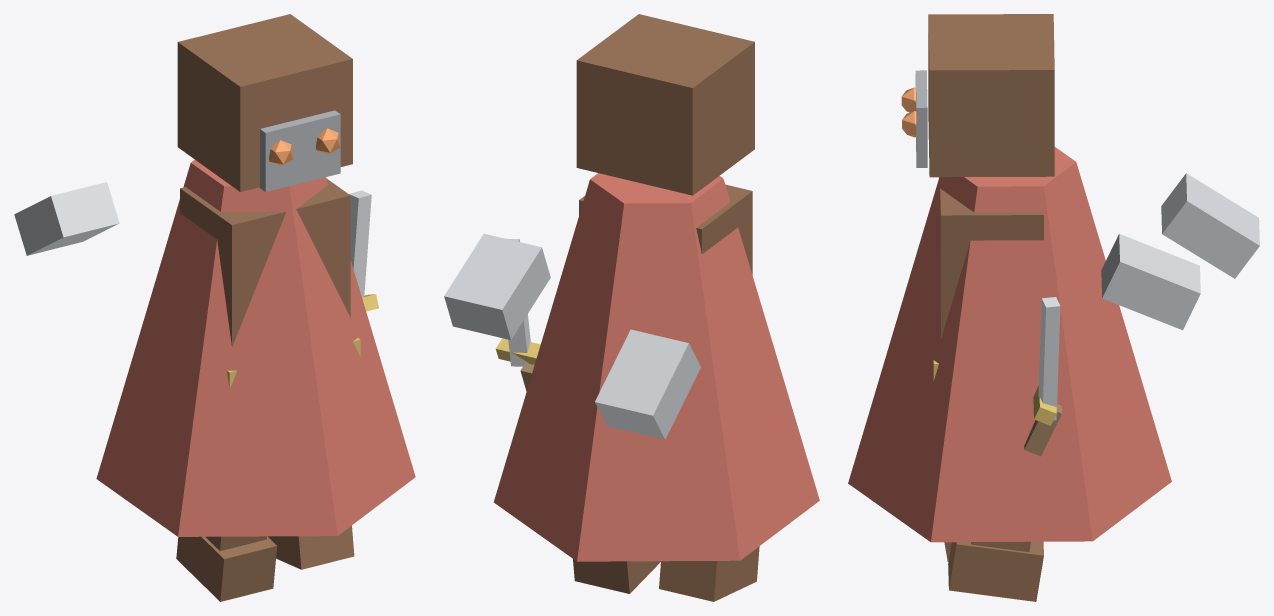
The model's file is npcpose_raider_attack_08.glb.
The picture shows the model from 3 angles, left to right: view 1: azimuth 30°, elevation 25°; view 2: azimuth 150°, elevation 25°; view 3: azimuth 270°, elevation 25°; orthographic projection. The views are drawn at different scales.
Visible parts, largest first — view 1: npcpose; view 2: npcpose; view 3: npcpose.
Boxes of the visible parts, <box> form: npcpose: <box>14,14,415,601</box>; npcpose: <box>444,14,819,601</box>; npcpose: <box>848,14,1259,601</box>.
Size of the model in its own units: 0.8131 by 1.58 by 1.12.
